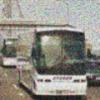buses: (16, 25, 88, 100)
